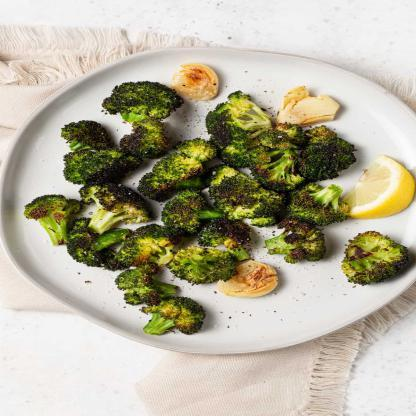broccoli: (20, 63, 414, 338)
